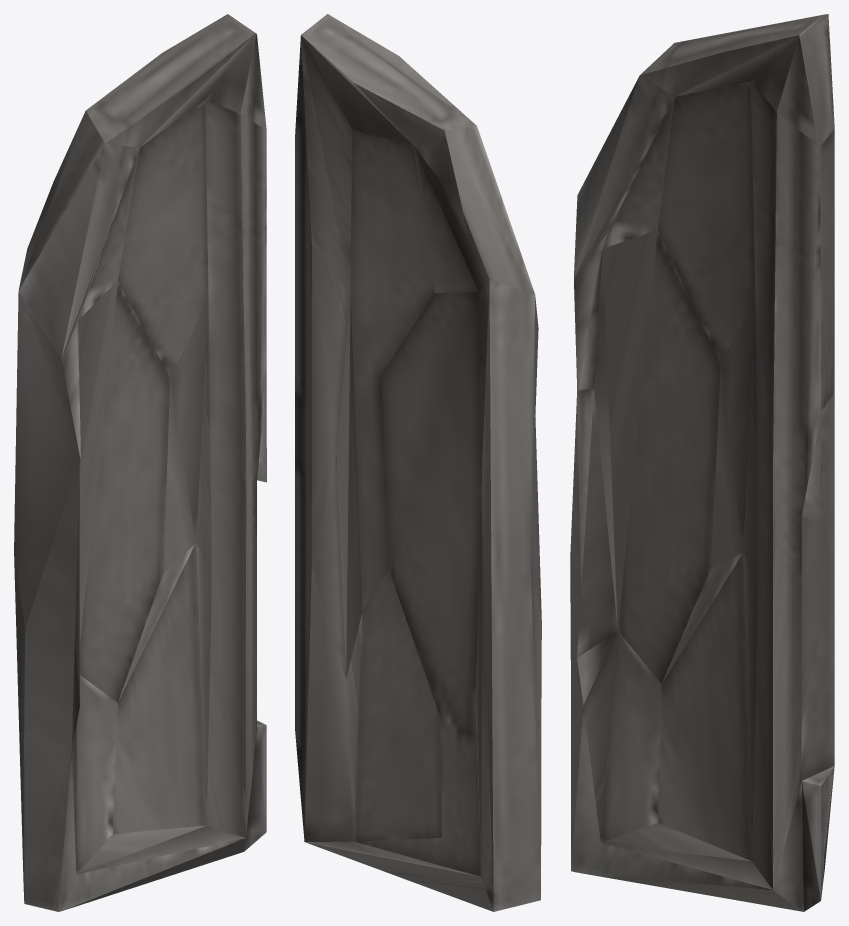
The model's file is imperial_city_wall_tower__entrance_door_left_lod2.glb.
The picture shows the model from 3 angles, left to right: view 1: azimuth 30°, elevation 25°; view 2: azimuth 150°, elevation 25°; view 3: azimuth 330°, elevation 25°; orthographic projection. The views are drawn at different scales.
Visible parts, largest first — view 1: mesh_node; view 2: mesh_node; view 3: mesh_node.
Part boxes in pixels (box(x1,y1,x2,y2)): mesh_node: box(14, 14, 266, 911); mesh_node: box(295, 14, 541, 911); mesh_node: box(570, 14, 834, 911).
Size of the model in its own units: 0.6706 by 2.22 by 0.2408.
Materials: 1 (1 with a texture image).
